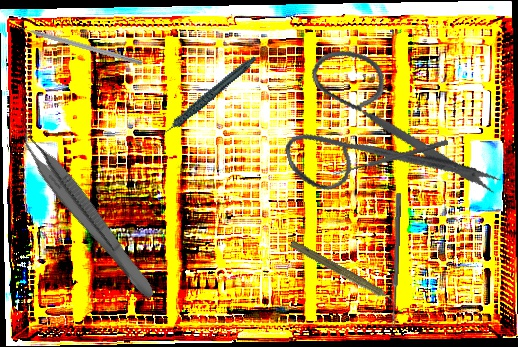Chopper: (10, 16, 146, 66)
Handpiece: (143, 55, 269, 139), (287, 237, 403, 312)
Iris Scissors: (262, 16, 506, 247)
Surgical Spoon: (332, 138, 449, 178), (390, 192, 402, 328)
Tissue Forceps: (10, 123, 167, 302)
